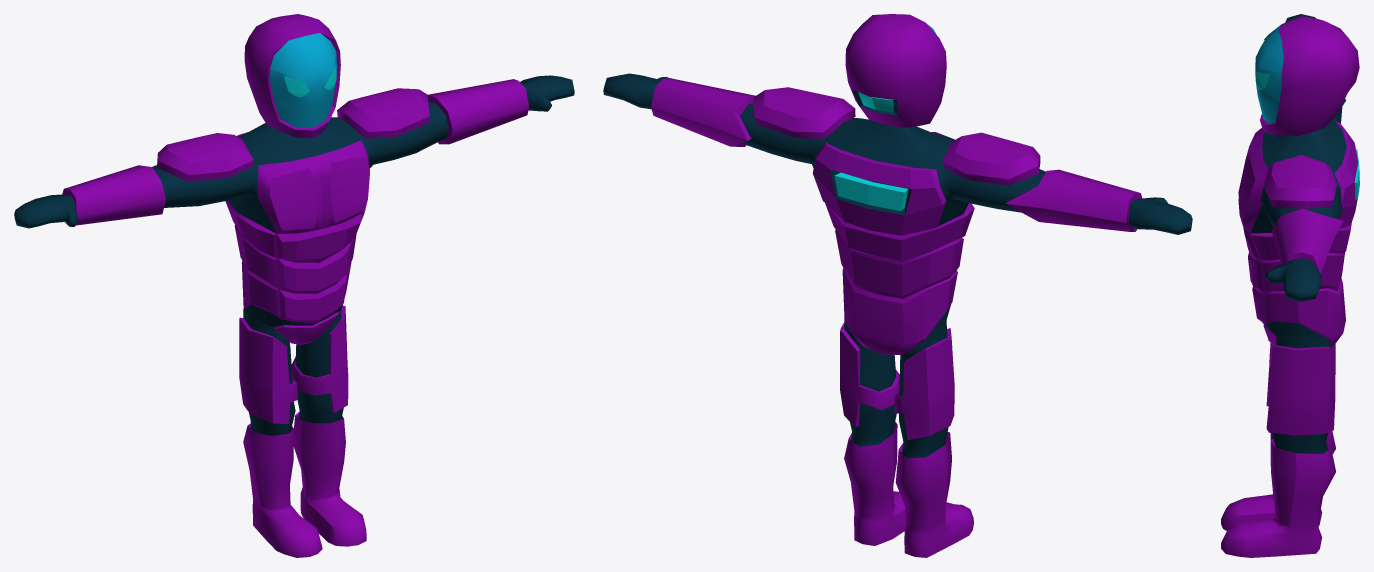
The model's file is Enforcer.fbx.
3 renders of one model, left to right at view 1: azimuth 30°, elevation 25°; view 2: azimuth 150°, elevation 25°; view 3: azimuth 270°, elevation 25°, orthographic. The views are drawn at different scales.
Parts seen in each view (by area): view 1: EnforcerMesh; view 2: EnforcerMesh; view 3: EnforcerMesh.
Boxes of the visible parts, x1,y1,x2,y2 form: EnforcerMesh: [14, 14, 574, 557]; EnforcerMesh: [603, 14, 1192, 557]; EnforcerMesh: [1221, 14, 1359, 557].
Size of the model in its own units: 89.19 by 76.69 by 18.84.
